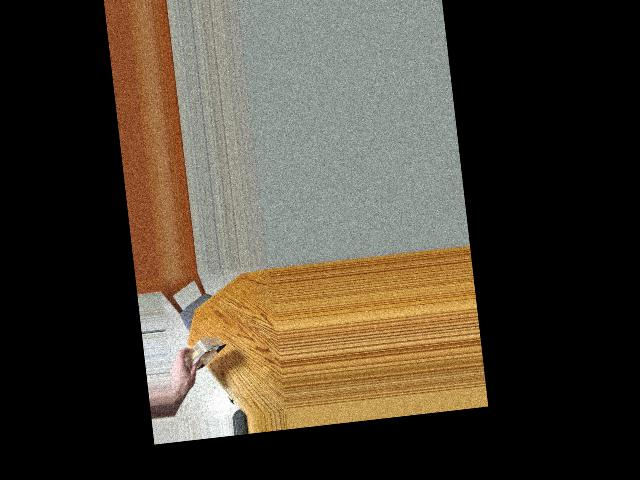cheese: (176, 330, 226, 387)
